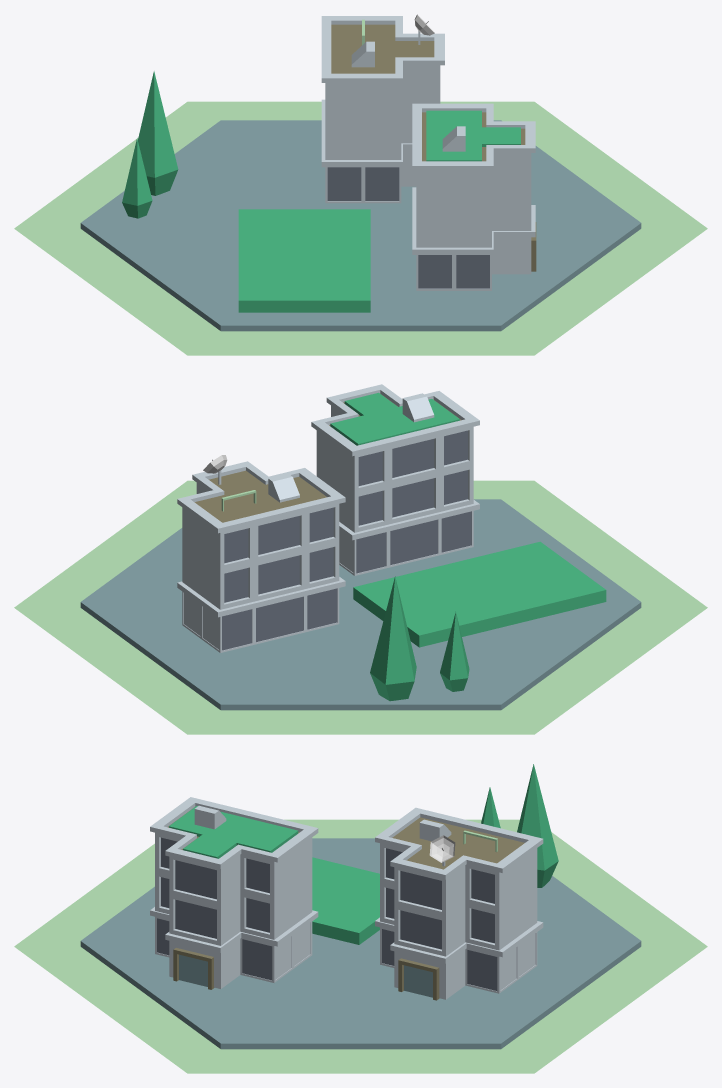
File: Temp_Building5.fbx
The picture shows the model from 3 angles, top to bottom: view 1: azimuth 30°, elevation 25°; view 2: azimuth 150°, elevation 25°; view 3: azimuth 270°, elevation 25°; orthographic projection.
Parts seen in each view (by area): view 1: 立方体.006; view 2: 立方体.006; view 3: 立方体.006.
Part boxes in pixels (x1,y1,x2,y2): 立方体.006: (14,14,707,355); 立方体.006: (14,384,707,734); 立方体.006: (14,764,707,1073).
Size of the model in its own units: 165 by 49 by 190.
